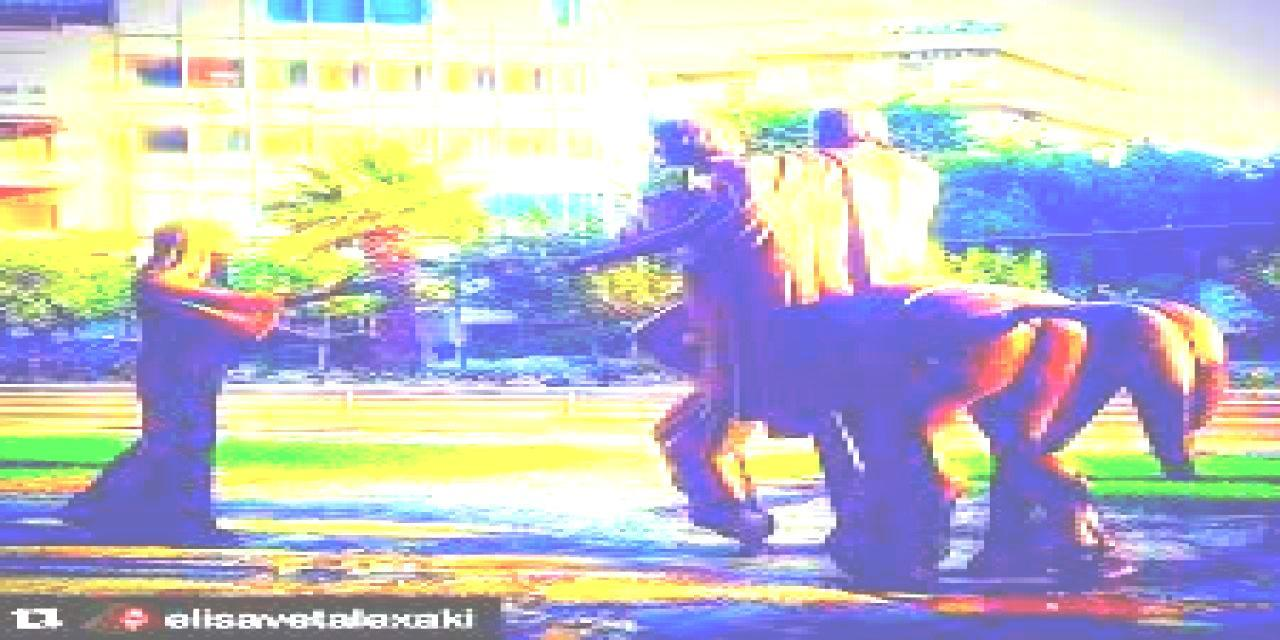Aretousa: (56, 102, 1229, 582)
